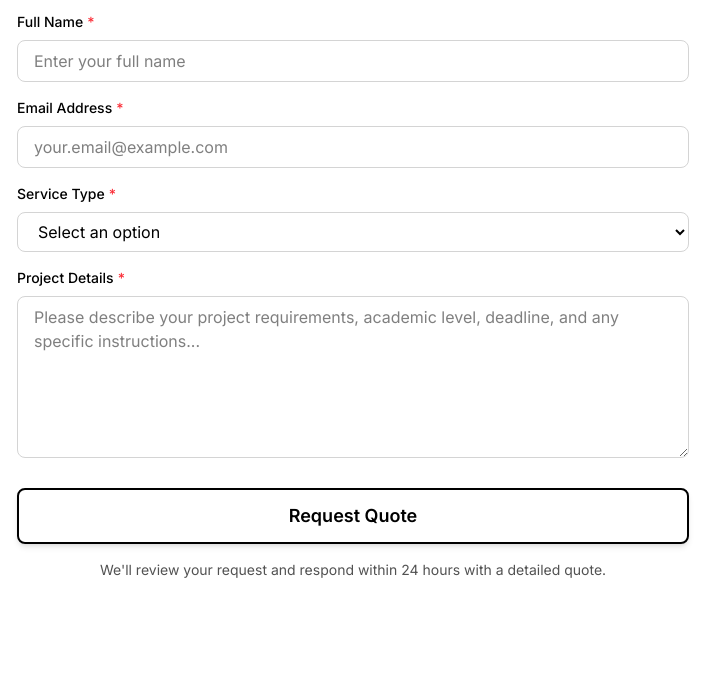
it: QuoteForm Component › clears error when user corrects input
Submit with empty name to trigger error
Click the button "Request Quote": [353, 516] box [17,488,689,544]
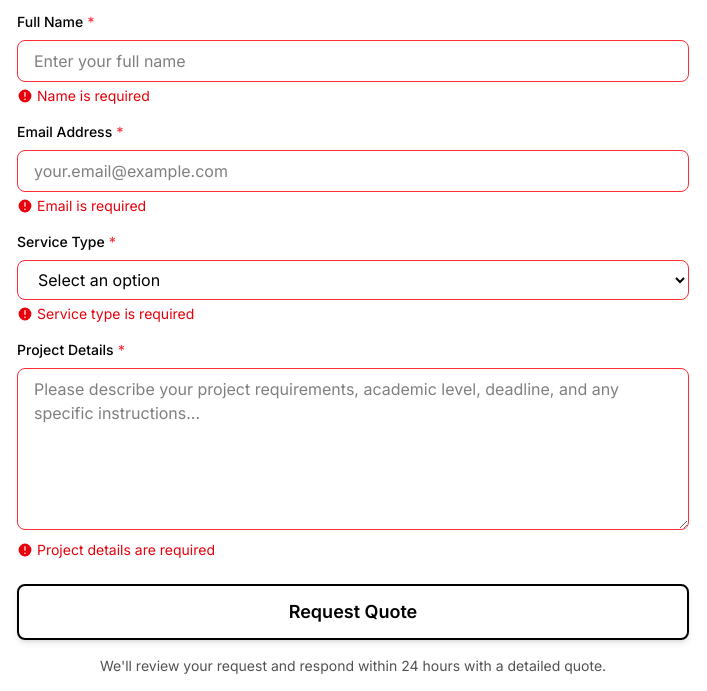
Now the text "Name is required" is shown, box [17,87,150,104]
Type in name field
In the field labelled "Full Name*": [353, 61] box [17,40,689,82], type "John Doe"
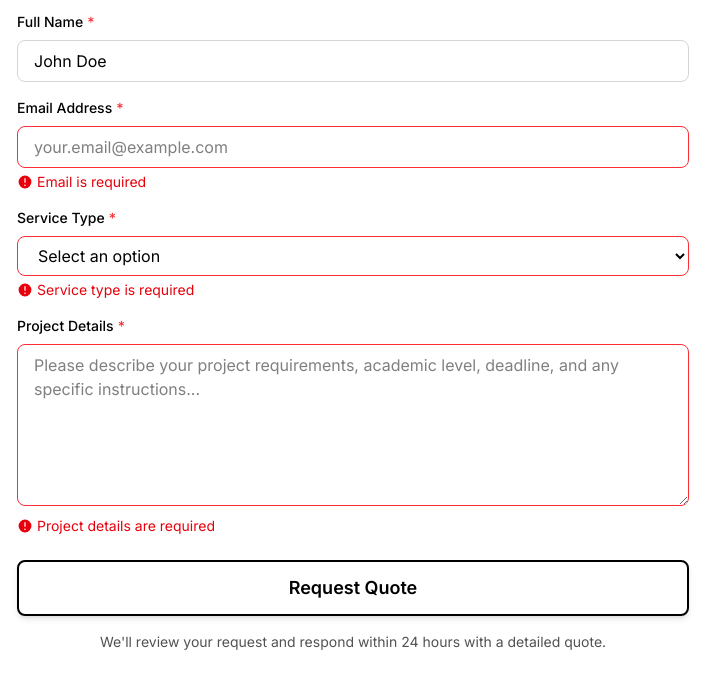
Now the text "Name is required" is gone
